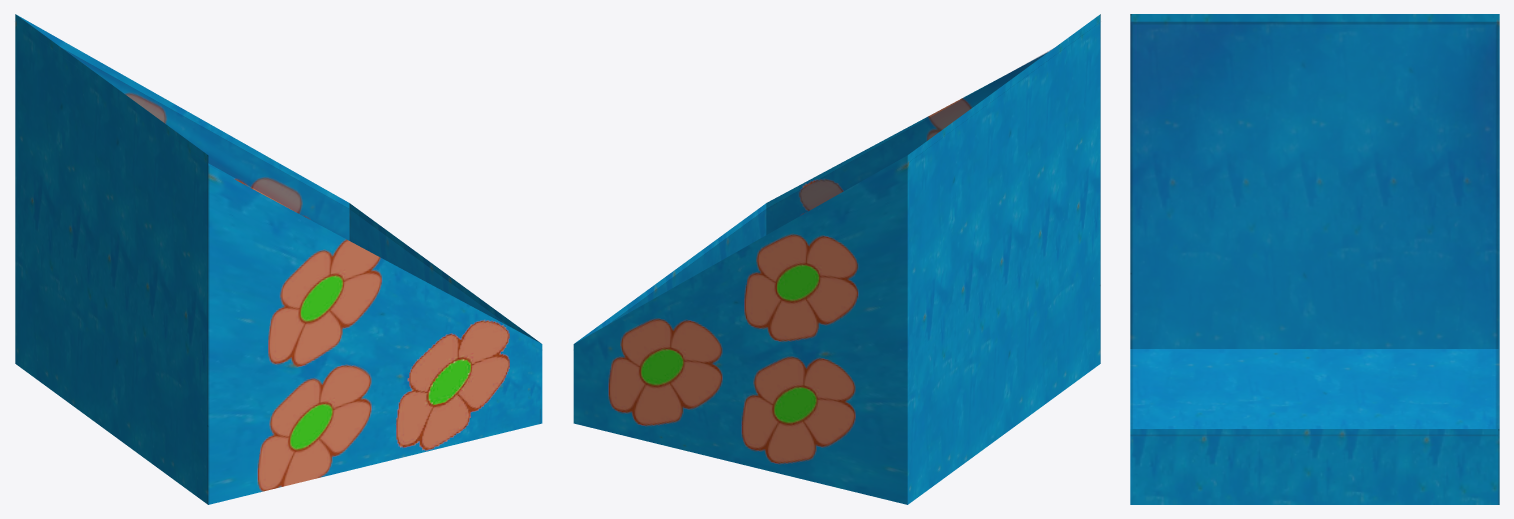
The model's file is PowerPak.glb.
3 renders of one model, left to right at view 1: azimuth 30°, elevation 25°; view 2: azimuth 150°, elevation 25°; view 3: azimuth 270°, elevation 25°, orthographic. The views are drawn at different scales.
Visible parts, largest first — view 1: PowerPak, PowerPak-Glass; view 2: PowerPak, PowerPak-Glass; view 3: PowerPak, PowerPak-Glass.
Part boxes in pixels (x1,y1,x2,y2): PowerPak: [15, 14, 542, 504]; PowerPak-Glass: [64, 49, 510, 326]; PowerPak: [573, 14, 1100, 504]; PowerPak-Glass: [611, 49, 1051, 322]; PowerPak: [1130, 14, 1499, 504]; PowerPak-Glass: [1130, 22, 1499, 435].
Size of the model in its own units: 2.01 by 2 by 2.
Materials: 2 (2 with a texture image).
